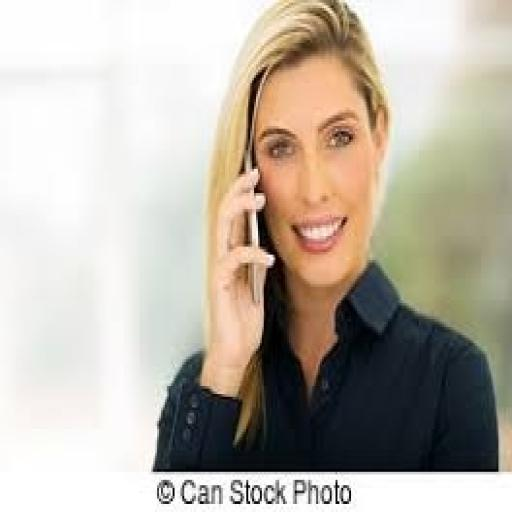calling: (150, 0, 500, 472)
